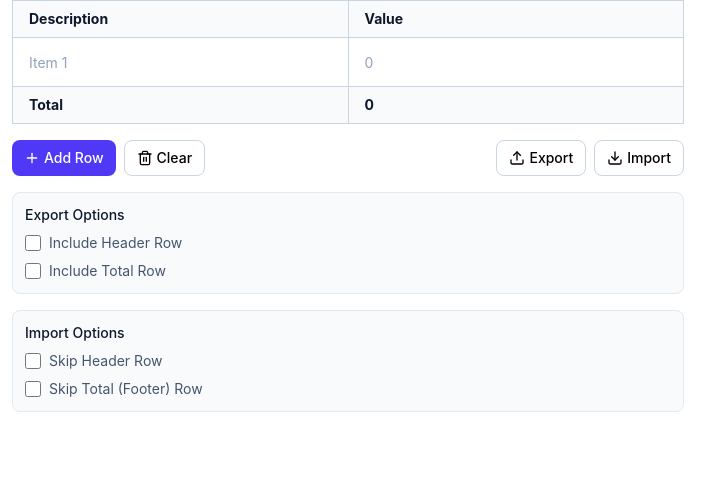
ColumnSumTable › Sum Calculation › should calculate sum of positive integers
Click the button "Add Row" at (64, 158), box [12,140,116,176]
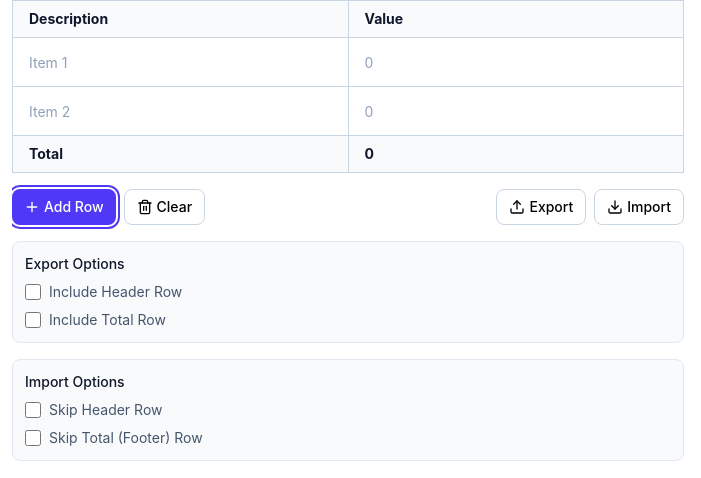
Type "10" into the field named "value" at (516, 62), box [352,42,679,82]
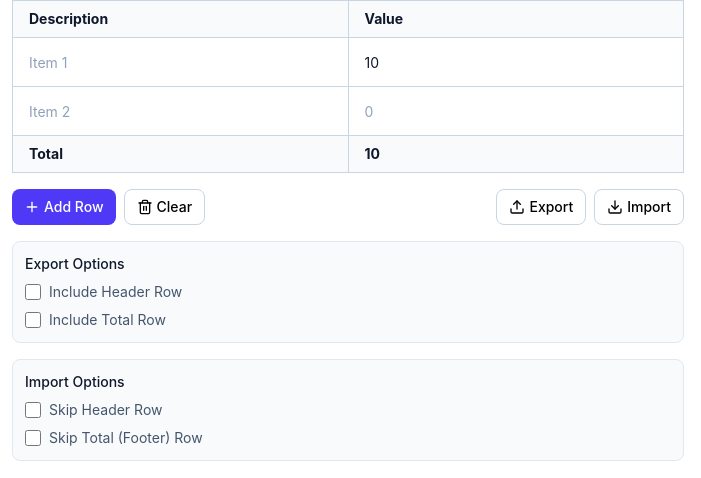
Type "20" into the field named "value" at (516, 111), box [352,91,679,131]
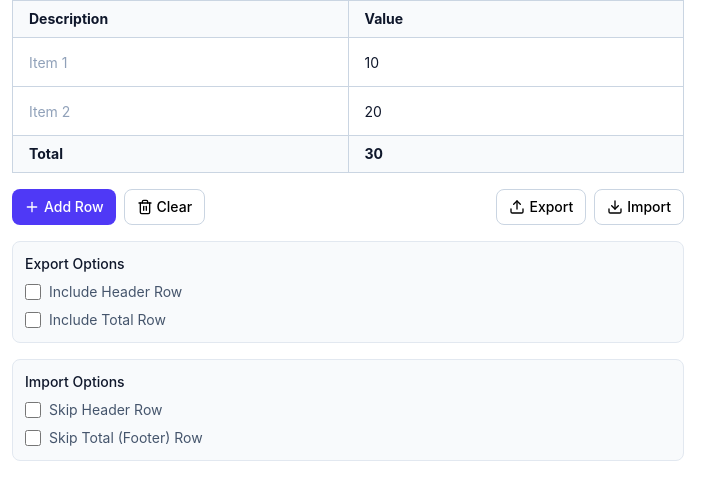
Expected: the text "Total" shows "30", [364,145,383,162]
